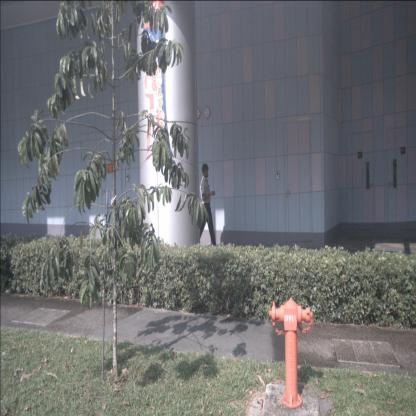human-pedestrian-adult: (192, 163, 219, 253)
